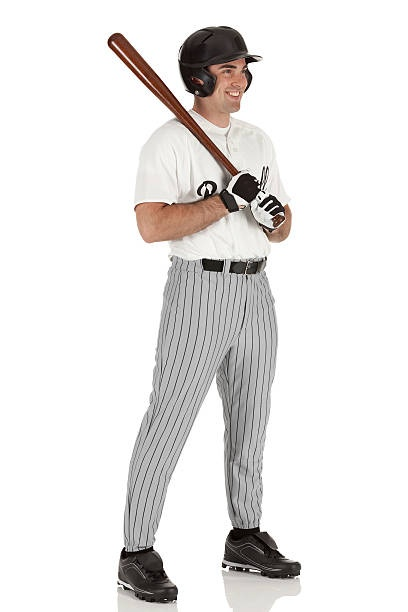bita: (110, 26, 286, 225)
